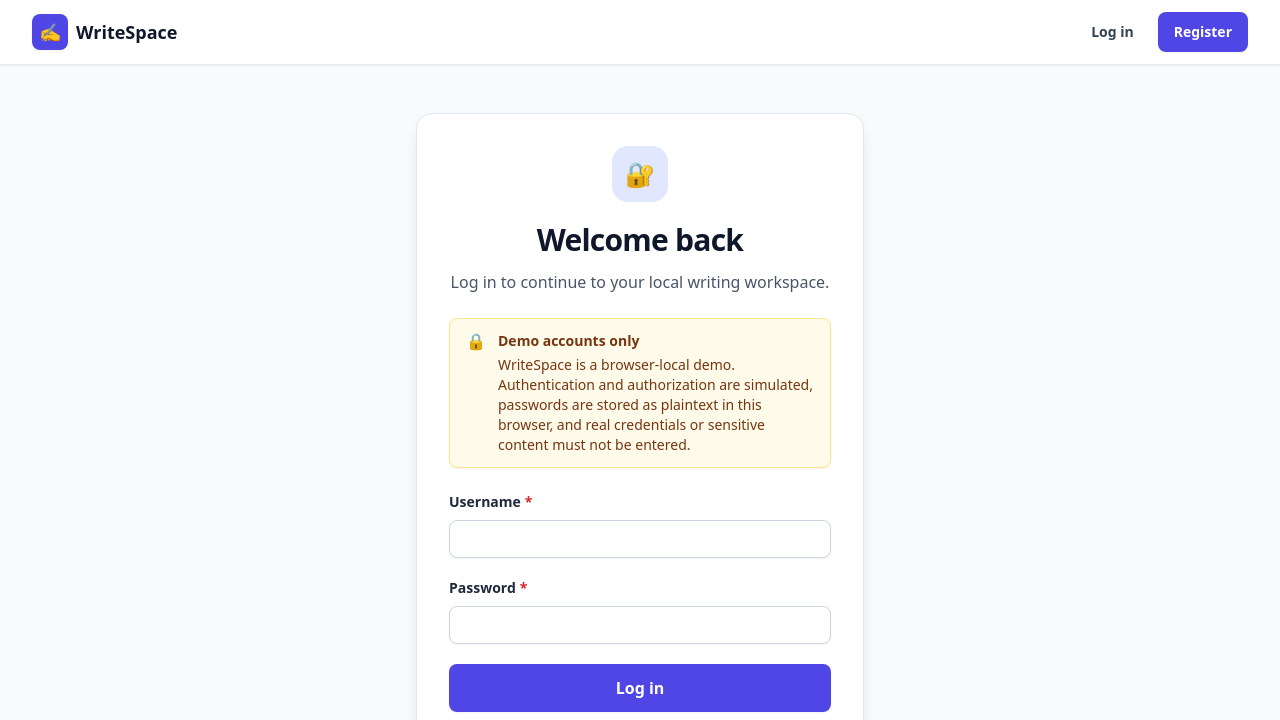
Test: Application routing and reliability › network isolation › authenticates and routes without making a runtime fetch request
The image size is (1280, 720).
In the field labelled "Username*": point(640, 539) [449, 520, 831, 558], type "admin"
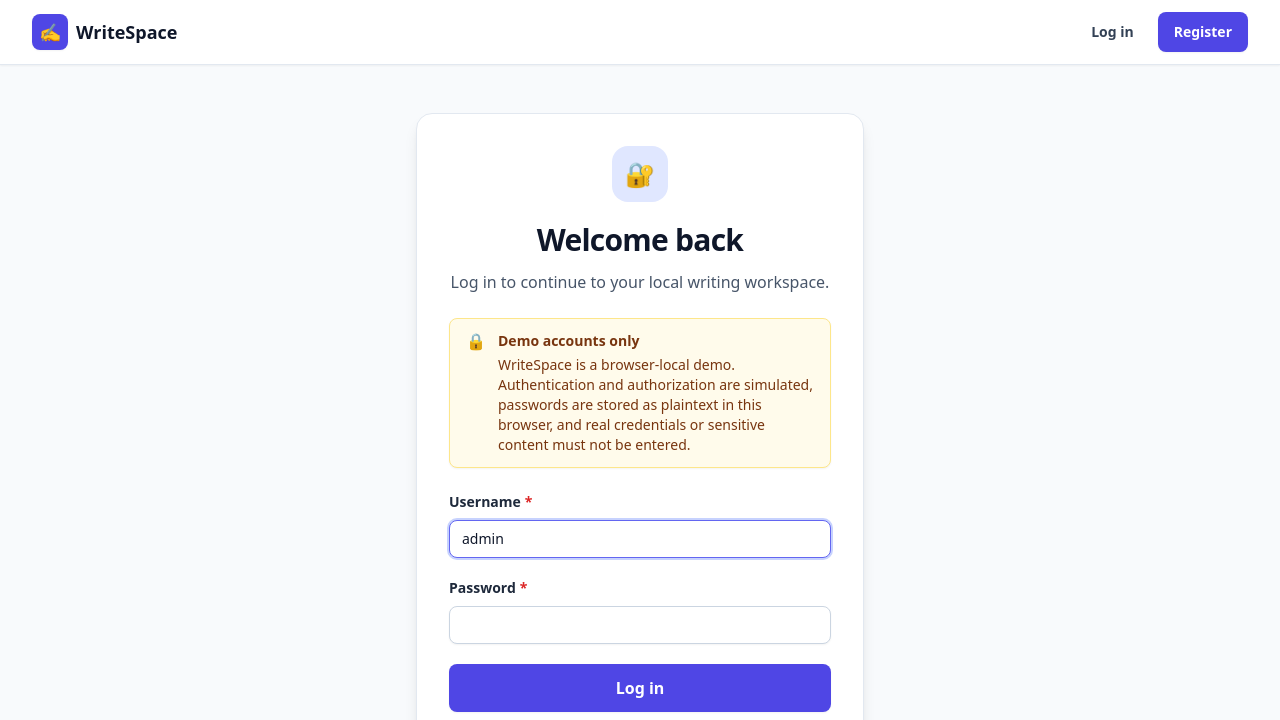
In the password field labelled "Password*": point(640, 625) [449, 606, 831, 644], type "admin"
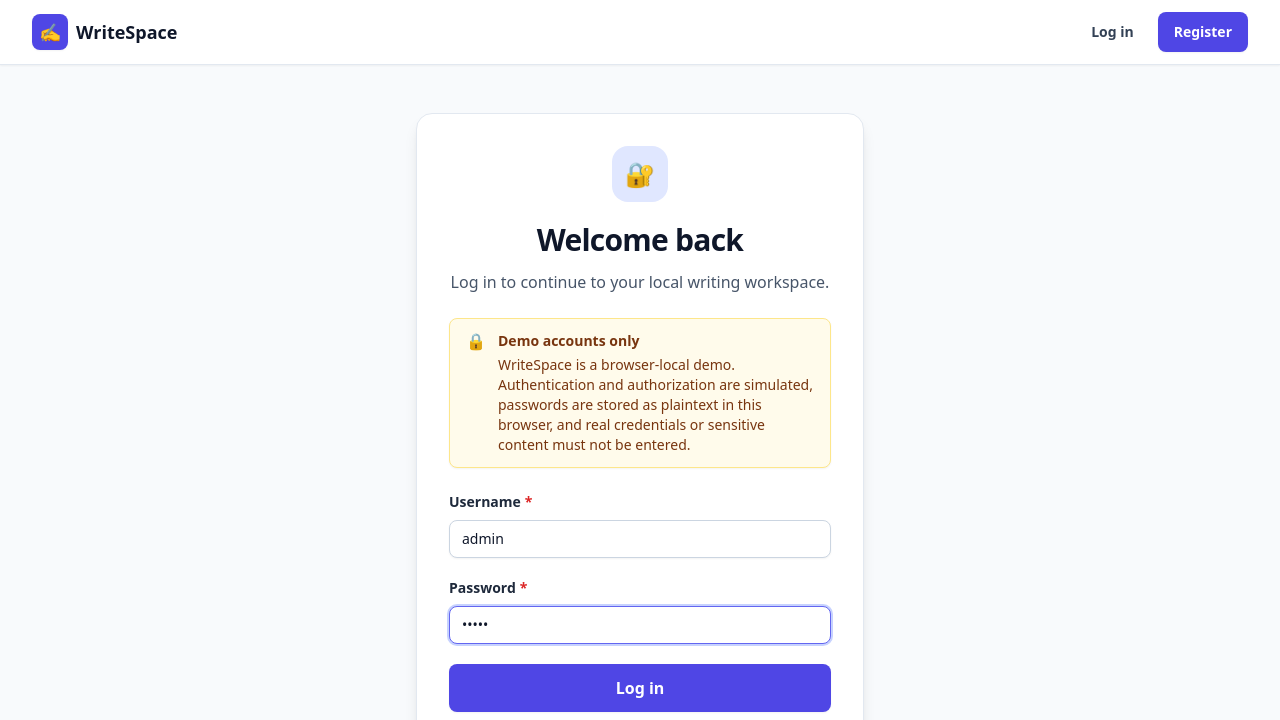
Click the button "Log in": point(640, 688) [449, 664, 831, 712]
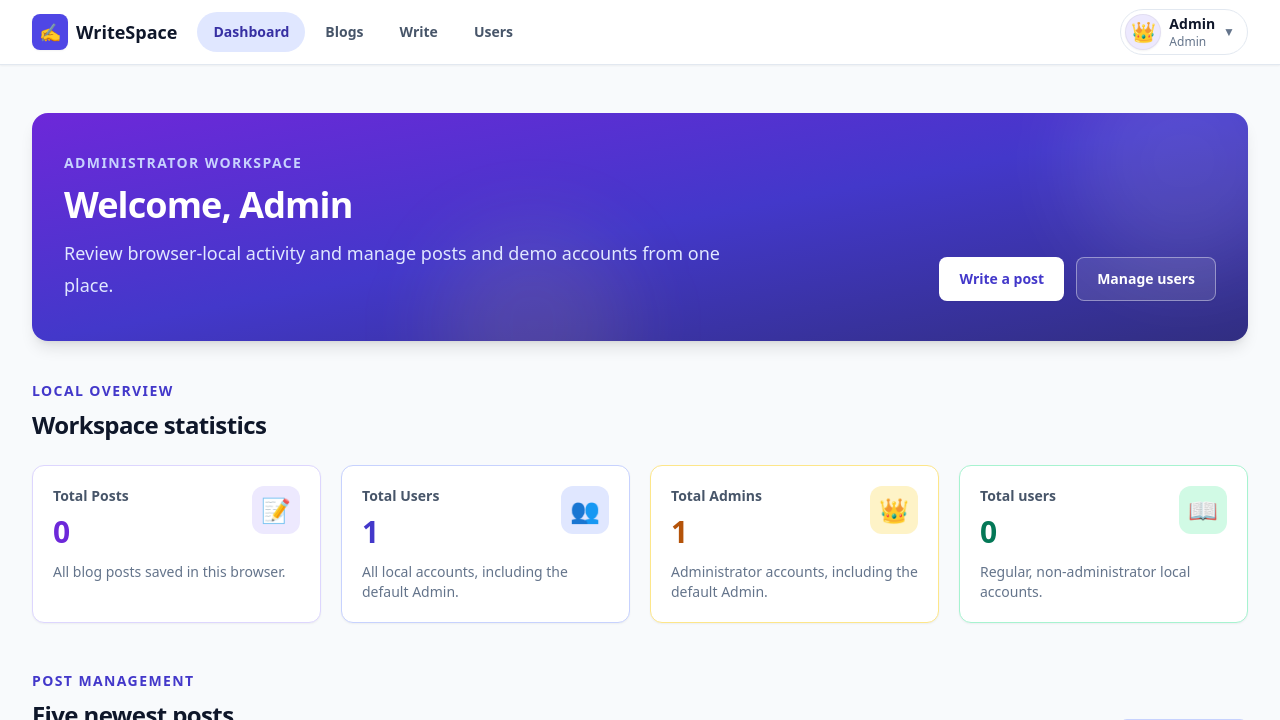
expect the heading "Welcome, Admin" is shown: met, box [64, 180, 352, 229]
